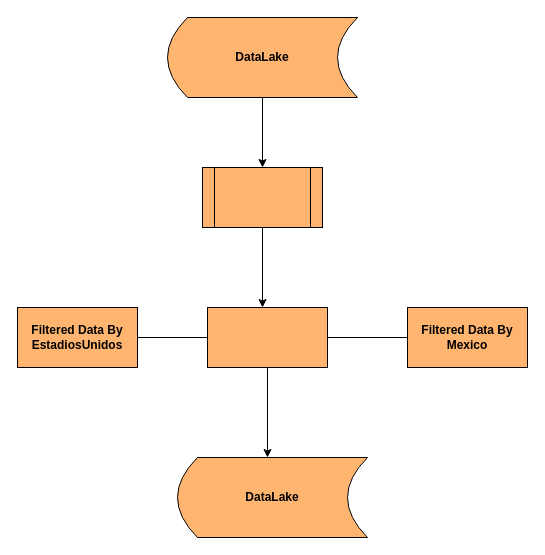
Image size: 545x555. Some labels were removed from this diagram. Each missing label, with the centre of its shape:
"Filtered Data By Francia" belongs at point (267, 337).
"Processing In DataFactory" belongs at point (262, 197).
